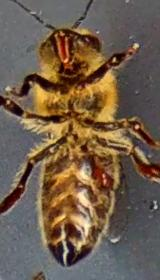varroa_mite: (90, 158, 118, 190)
